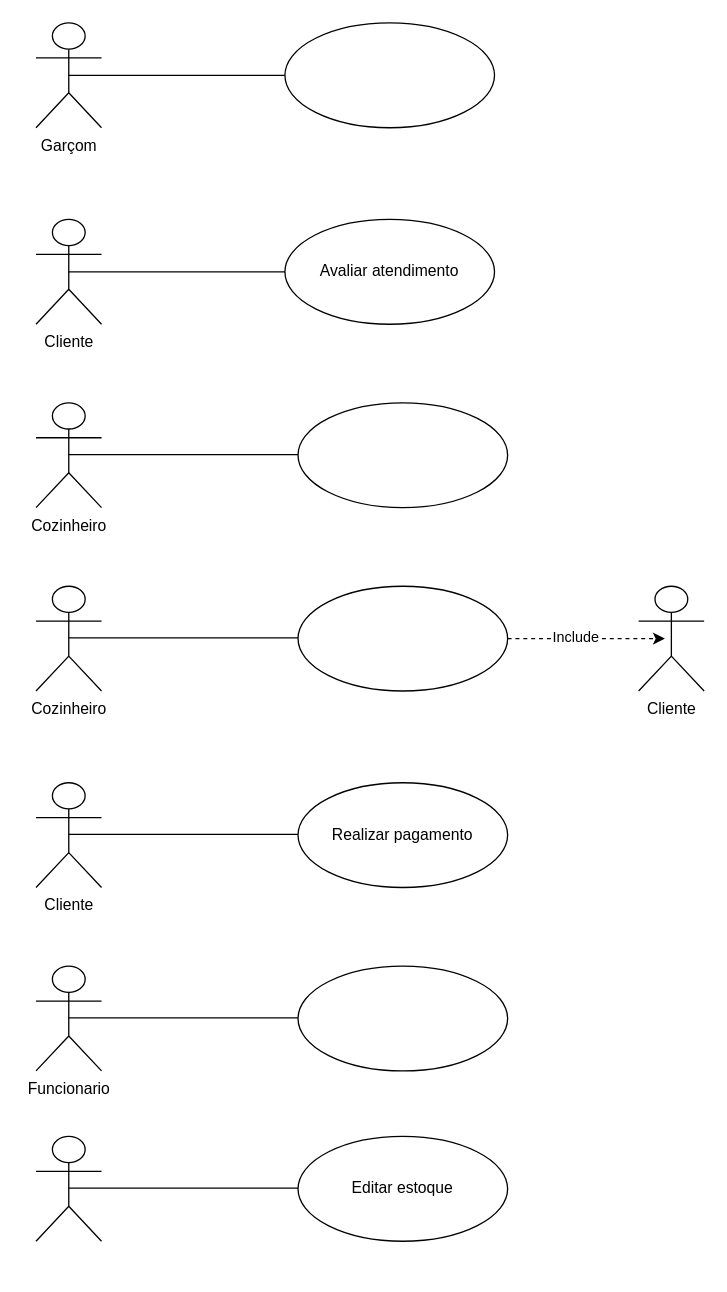
Image size: 727x1292. Some labels were removed from this diagram. The shapes that lost their labels are listed below. From the top down, each one's box as (x1, y1, x2, y2) in pixels, then its label:
(284, 22, 495, 128): Registrar pedido
(297, 402, 508, 508): Verificar pedidos feitos
(297, 585, 508, 691): Finalizar pedido
(297, 965, 508, 1071): Consultar estoque
(35, 1135, 102, 1241): Almoxarifado
